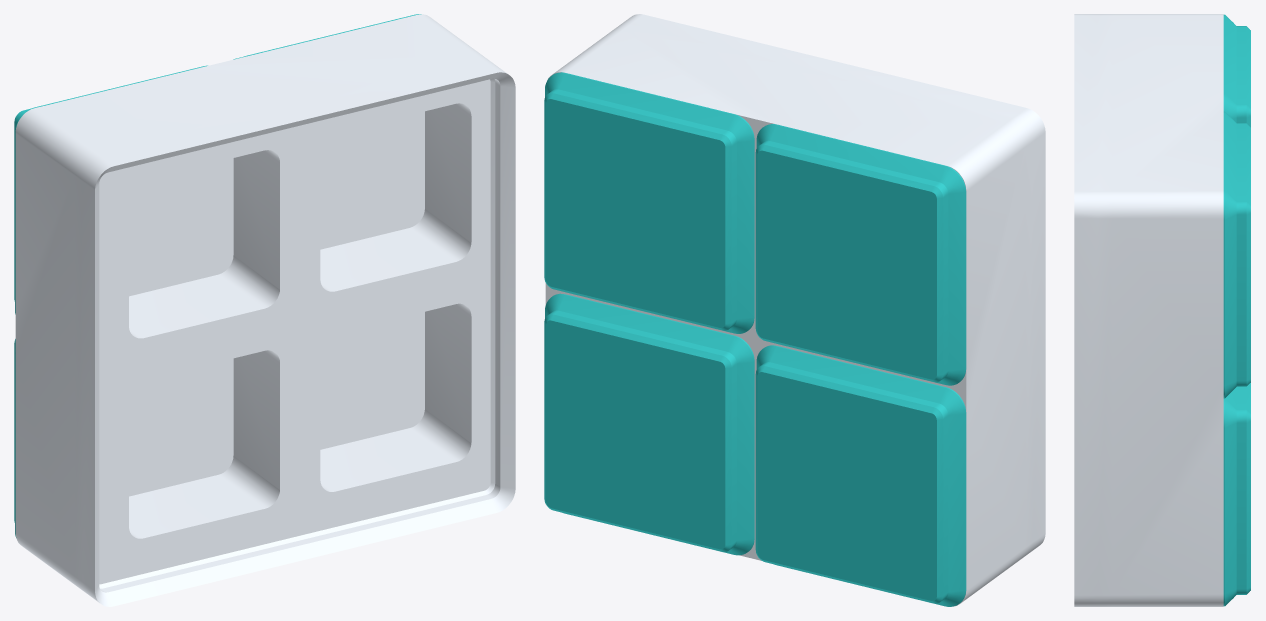
File: floor-cutout-2x2-pockets.glb
The picture shows the model from 3 angles, left to right: view 1: azimuth 30°, elevation 25°; view 2: azimuth 150°, elevation 25°; view 3: azimuth 270°, elevation 25°; orthographic projection. The views are drawn at different scales.
Bounding box in the file's own units: 83.5 × 83.5 × 32.39.
